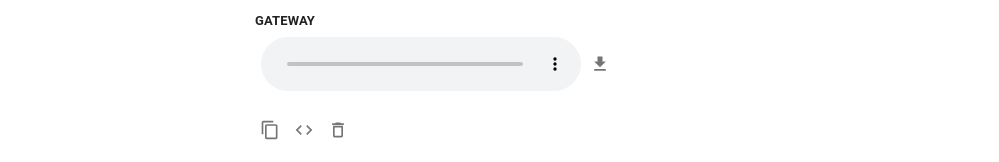
Test: deleting the audio of a stored speech answer › asks inline, in place of the icon, when it is clicked: Delete and Cancel, no dialog
The width and height of the screenshot is (999, 162).
Step 1. Click the button named "Audio löschen" → coordinates (338, 130), box left=323, top=114, right=353, bottom=144
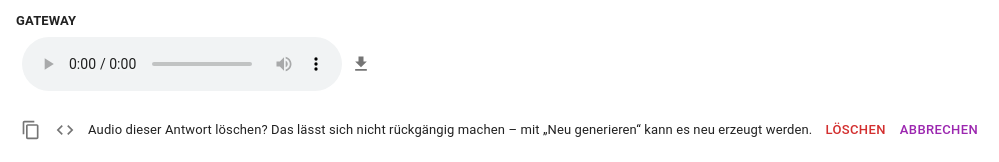
Expected: the text "Audio dieser Antwort löschen? Das lässt sich nicht rückgängig machen – mit „Neu generieren“ kann es neu erzeugt werden." is shown, left=88, top=122, right=812, bottom=137
Expected: the button "Löschen" is shown, left=820, top=114, right=891, bottom=145
Expected: the button "Abbrechen" is shown, left=895, top=114, right=983, bottom=145
